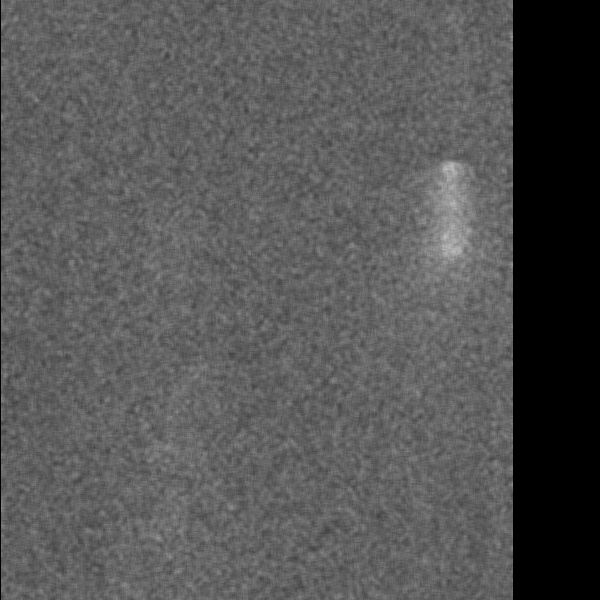spark: (417, 139, 478, 333)
